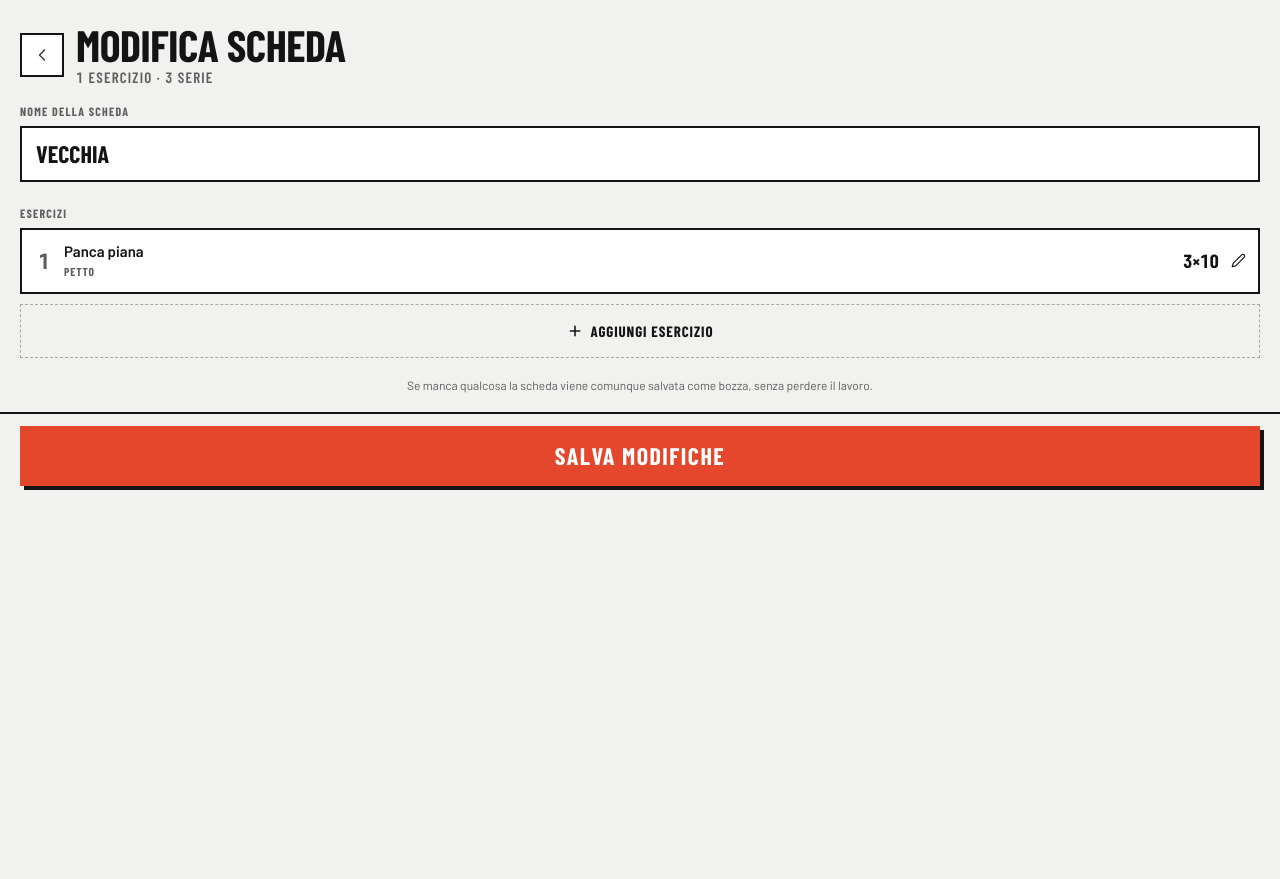
Test: il form della scheda › una scheda di prima resta com’era: serie, colpi, niente progressione
Click the button "1 Panca piana Petto 3×10".
click(104, 251)  # box x1=22 y1=230 x2=1258 y2=292
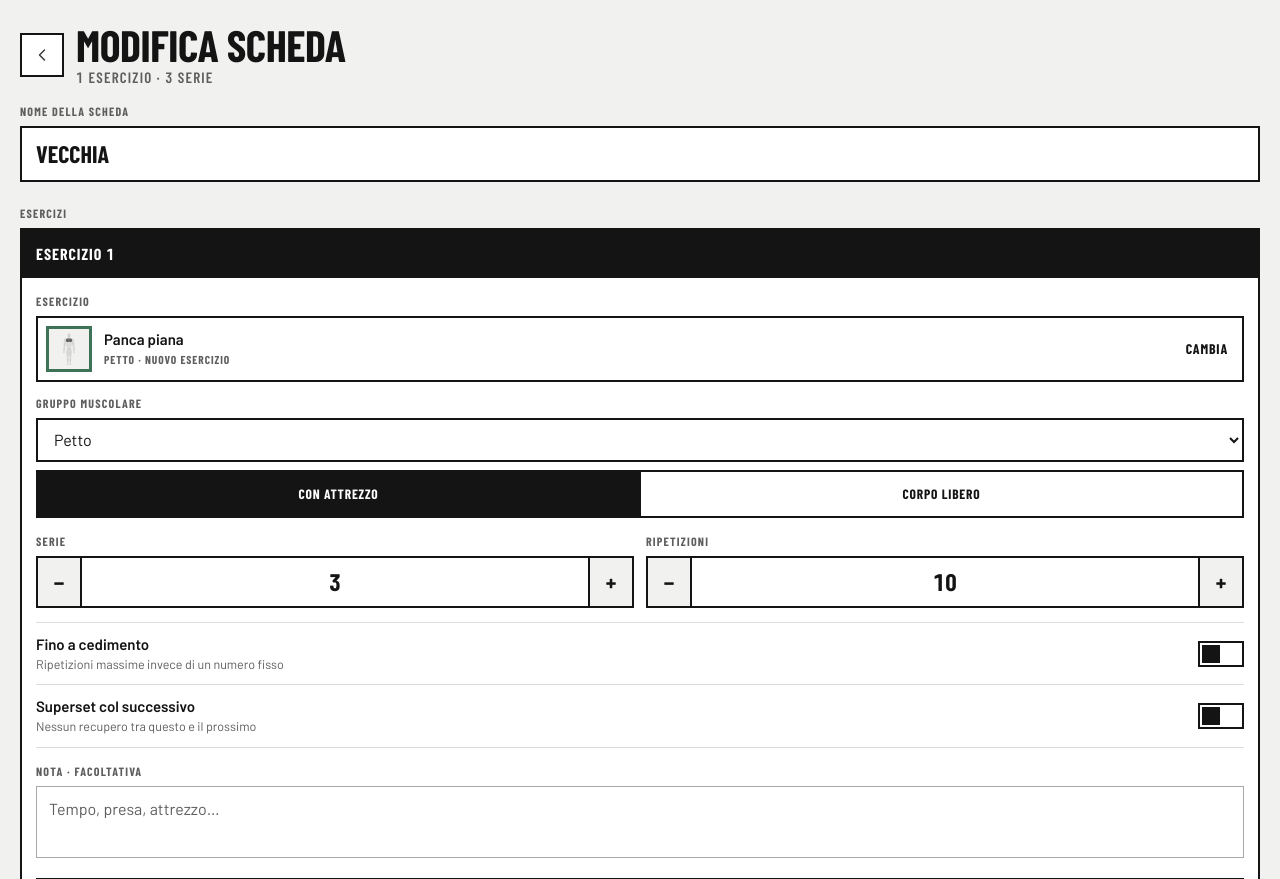
Expected: the field with placeholder "3" holds "3", x1=82 y1=558 x2=588 y2=606
